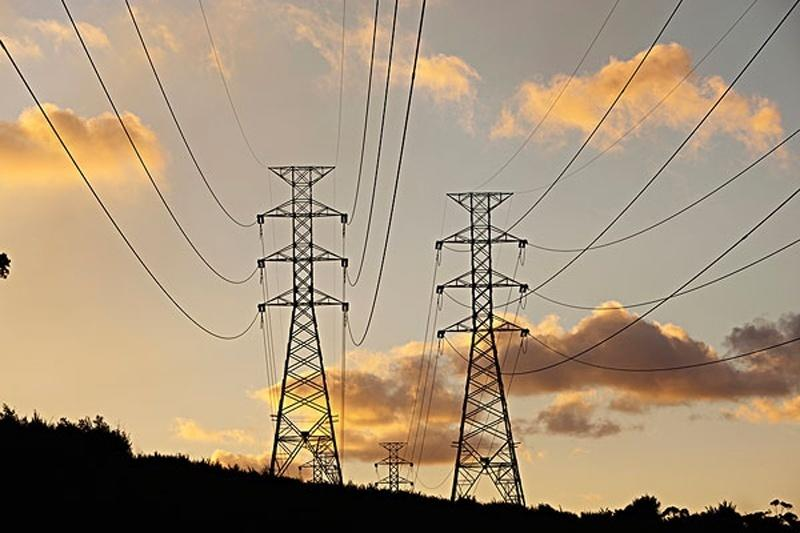power_tower: (240, 145, 372, 490), (422, 182, 547, 504)
